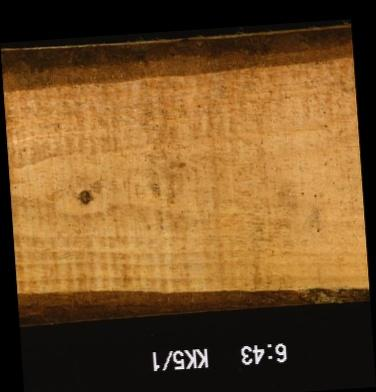dry_knot: (79, 189, 90, 206)
wave: (1, 36, 352, 81), (17, 280, 368, 313)
